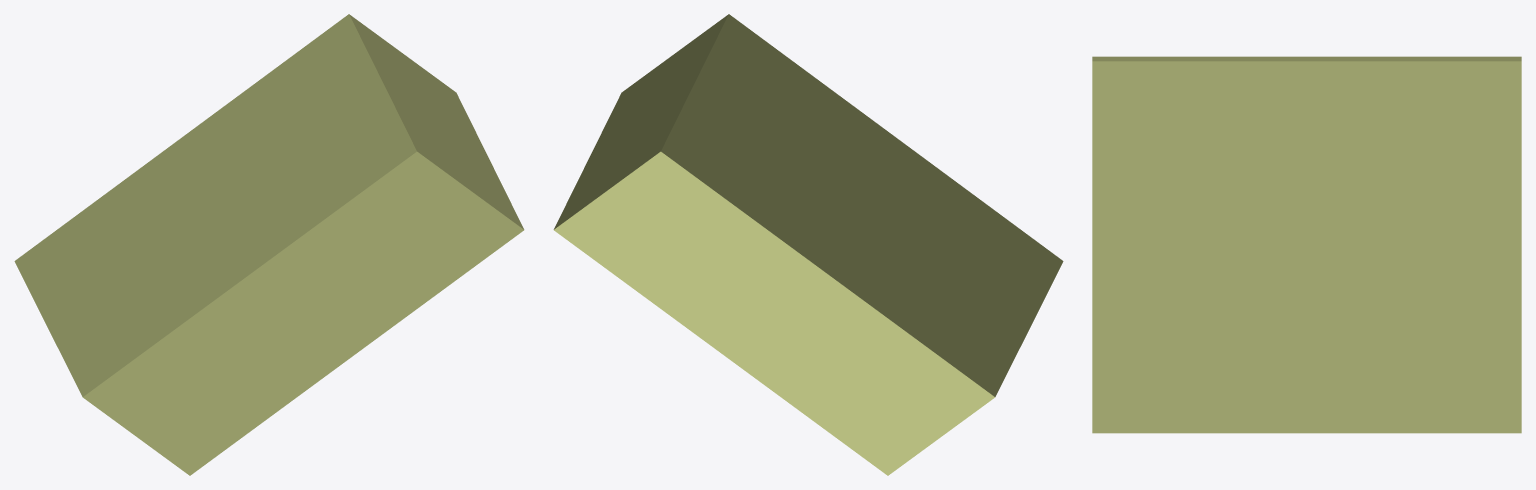
3 views of the same model, side by side, from view 1: azimuth 30°, elevation 25°; view 2: azimuth 150°, elevation 25°; view 3: azimuth 270°, elevation 25° (orthographic). The views are drawn at different scales.
Parts seen in each view (by area): view 1: 0_1_1_3_3_1_2_2_3_0; view 2: 0_1_1_3_3_1_2_2_3_0; view 3: 0_1_1_3_3_1_2_2_3_0.
Part boxes in pixels (x1=…): 0_1_1_3_3_1_2_2_3_0: x1=14, y1=14, x2=524, y2=475; 0_1_1_3_3_1_2_2_3_0: x1=553, y1=14, x2=1063, y2=475; 0_1_1_3_3_1_2_2_3_0: x1=1092, y1=56, x2=1521, y2=433.
Size of the model in its own units: 12.99 by 9.81 by 6.
